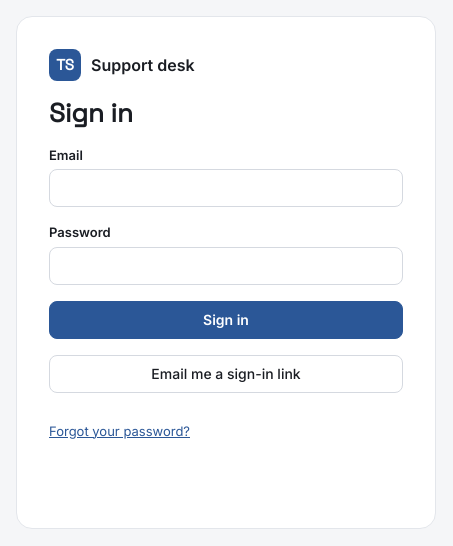
Test: two-step sign-in › sends a supporter who owes a code from sign-in to the code page
This screenshot has width=453, height=546.
Type "alex@example.test" into the field labelled "Email" at (226,188), box [49,169,403,207]
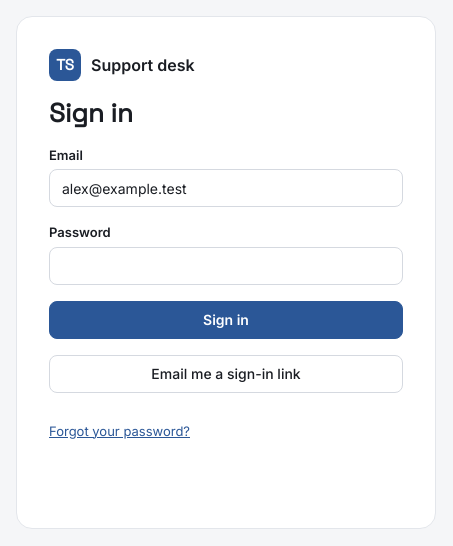
Type "Violet-Tractor-Sundial-42" into the password field labelled "Password" at (226,266), box [49,246,403,284]
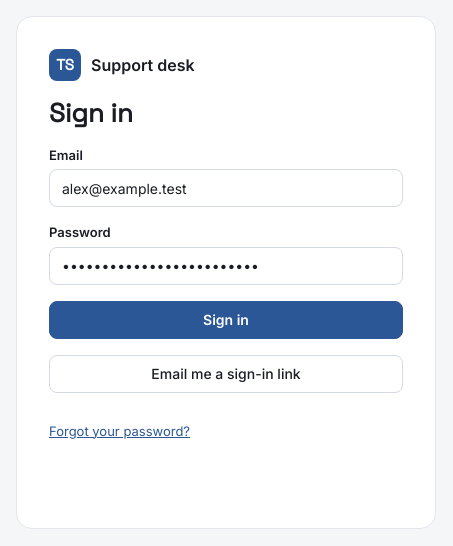
Click the button "Sign in" at (226,320), box [49,300,403,338]
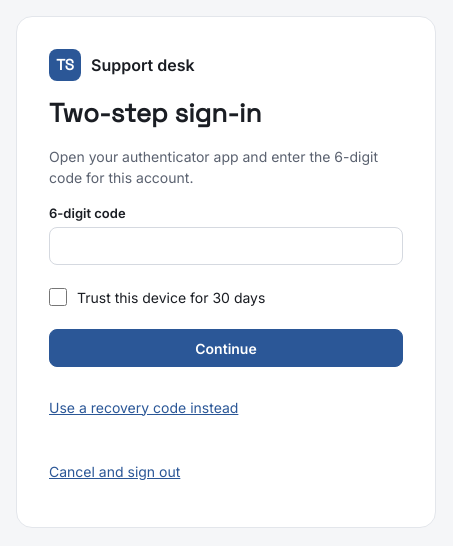
Check: the heading "Two-step sign-in" is shown, box [49,96,261,130]
